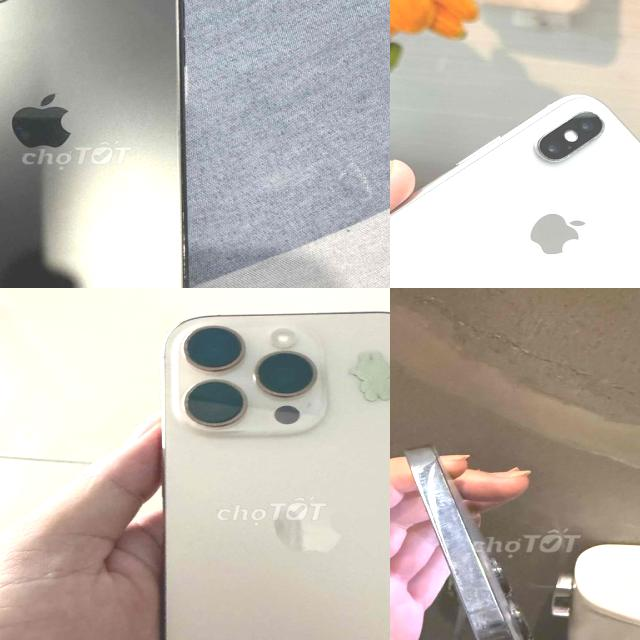scratch: (412, 460, 516, 640)
